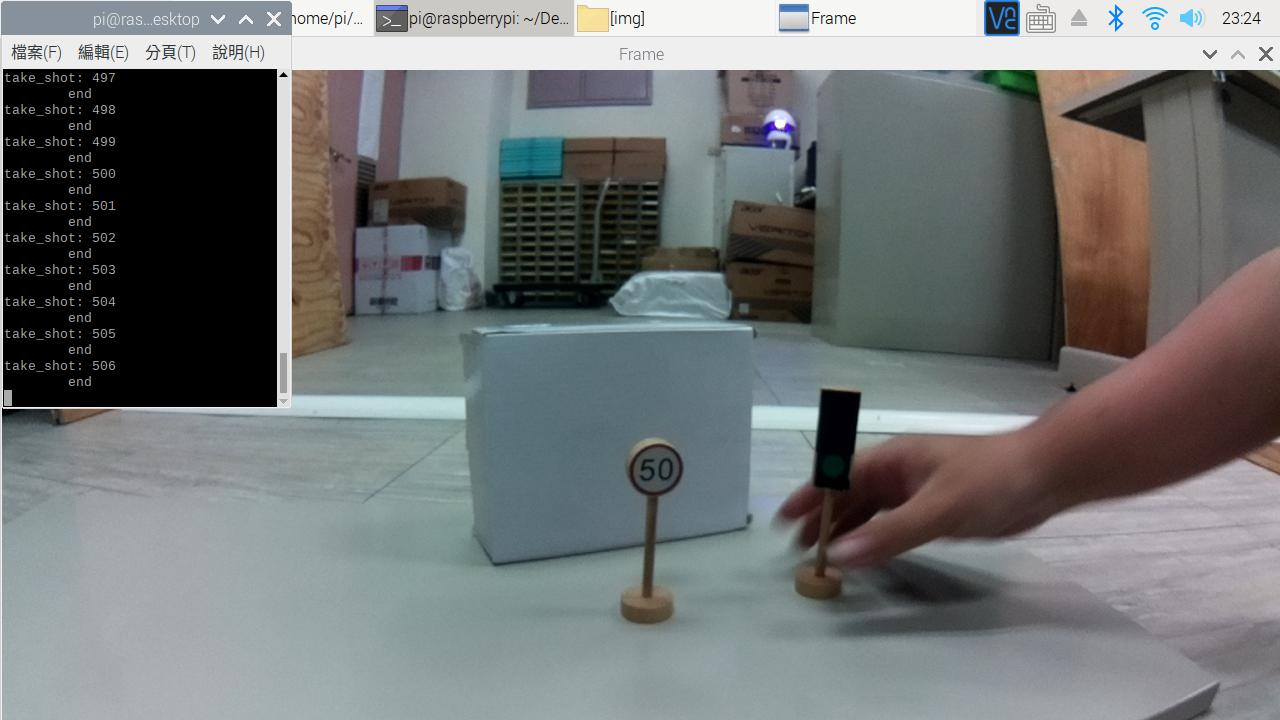Green: (792, 374, 864, 503)
Speed50: (617, 430, 705, 509)
